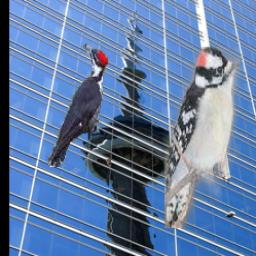Woodpecker: (164, 48, 241, 229), (45, 42, 110, 170)
